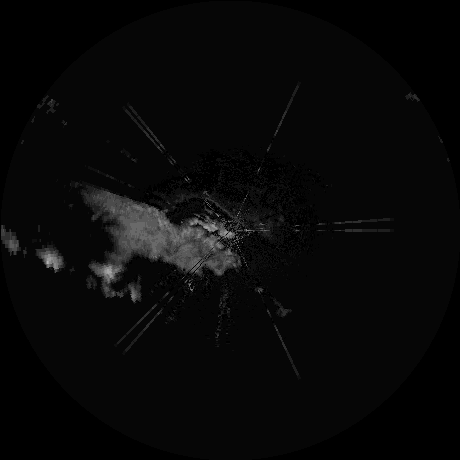frontgust: (198, 193, 243, 227)
